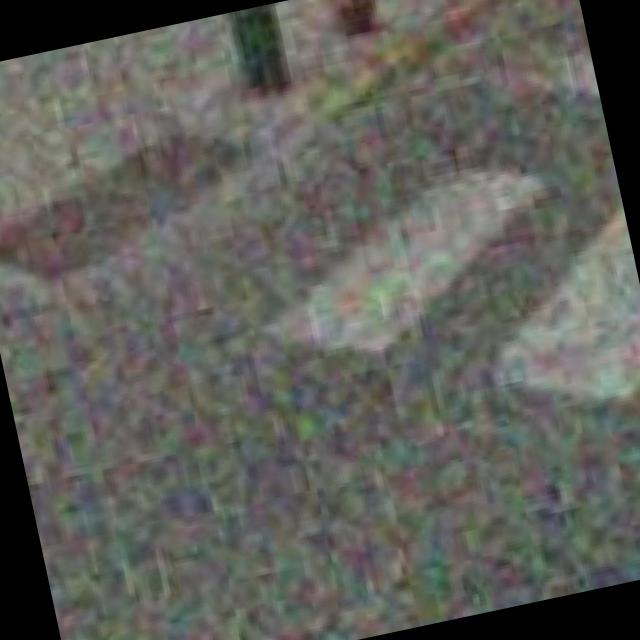zebra: (218, 133, 640, 390)
